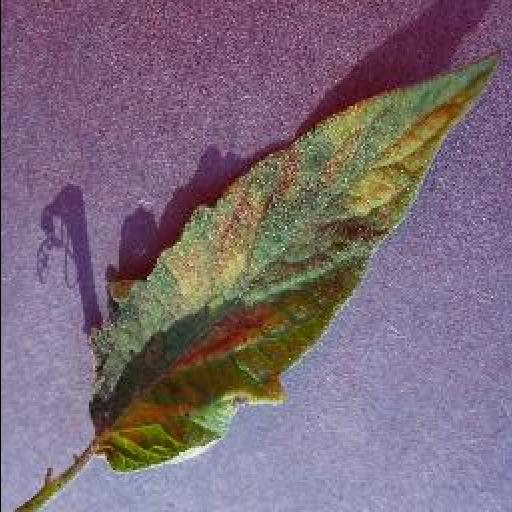disease_tomato: (86, 62, 504, 475)
